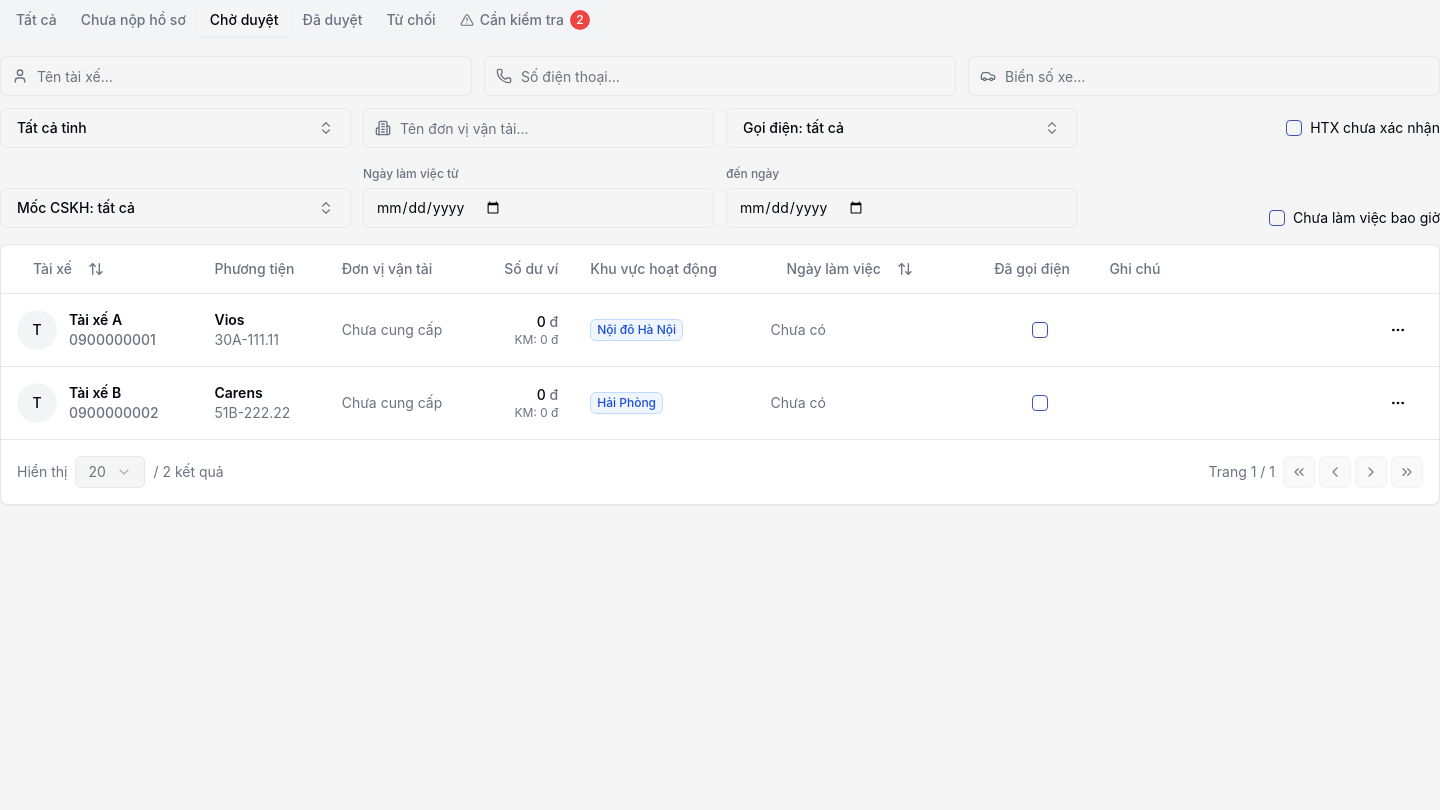
it: DriversTable — sửa tỉnh không rò trạng thái sang tài khác › bấm Sửa (đang nạp) rồi đóng hộp thoại → nạp xong không tự bật chế độ sửa khi mở lại
Click the text "Tài xế A". click: (96, 319)
box: [69,310,122,328]
(page scrolled)
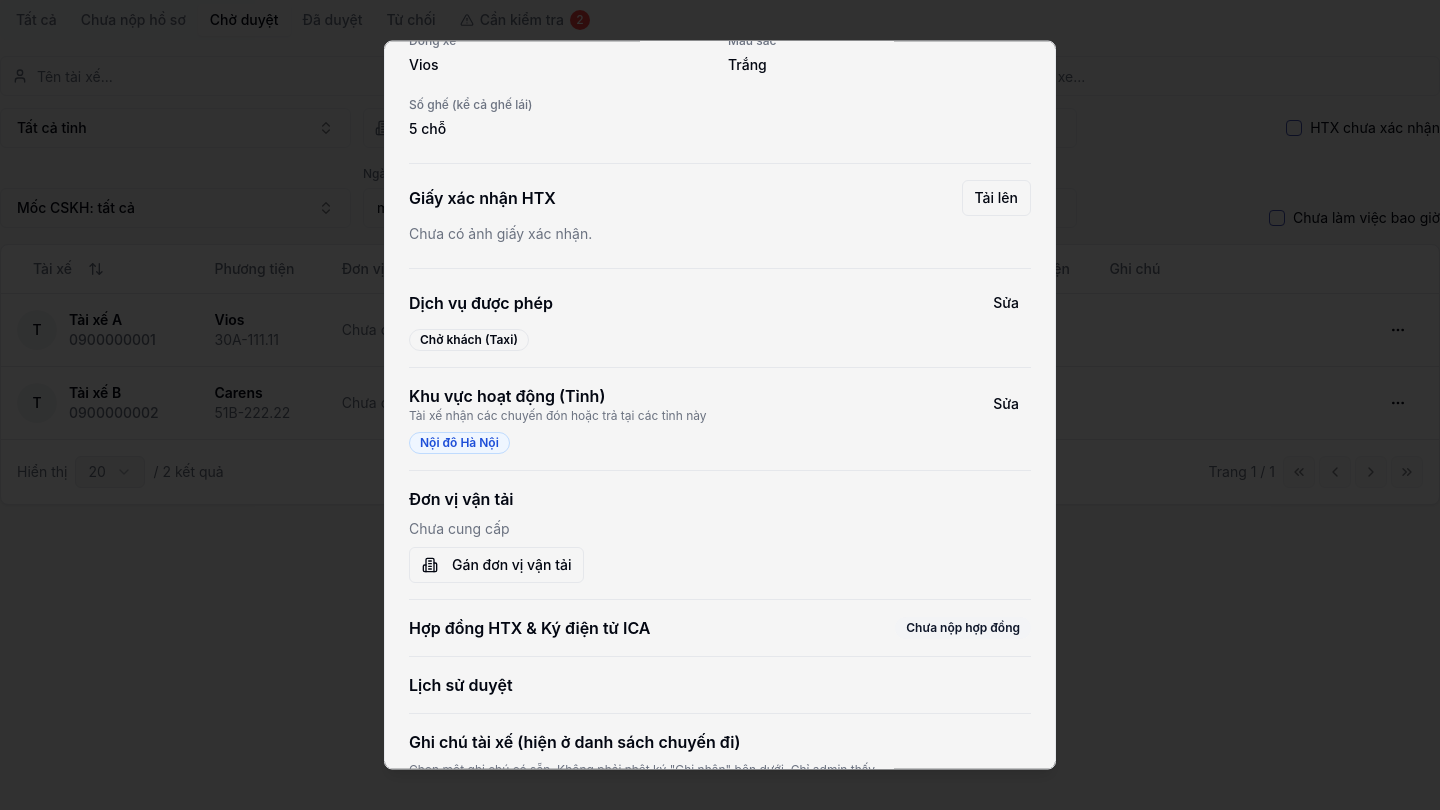
Result: the dialog is shown at [384,40,1056,770]
Click the button "Sửa" in the row of "Khu vực hoạt động (Tỉnh)". click: (1006, 404)
box: [981,386,1031,422]
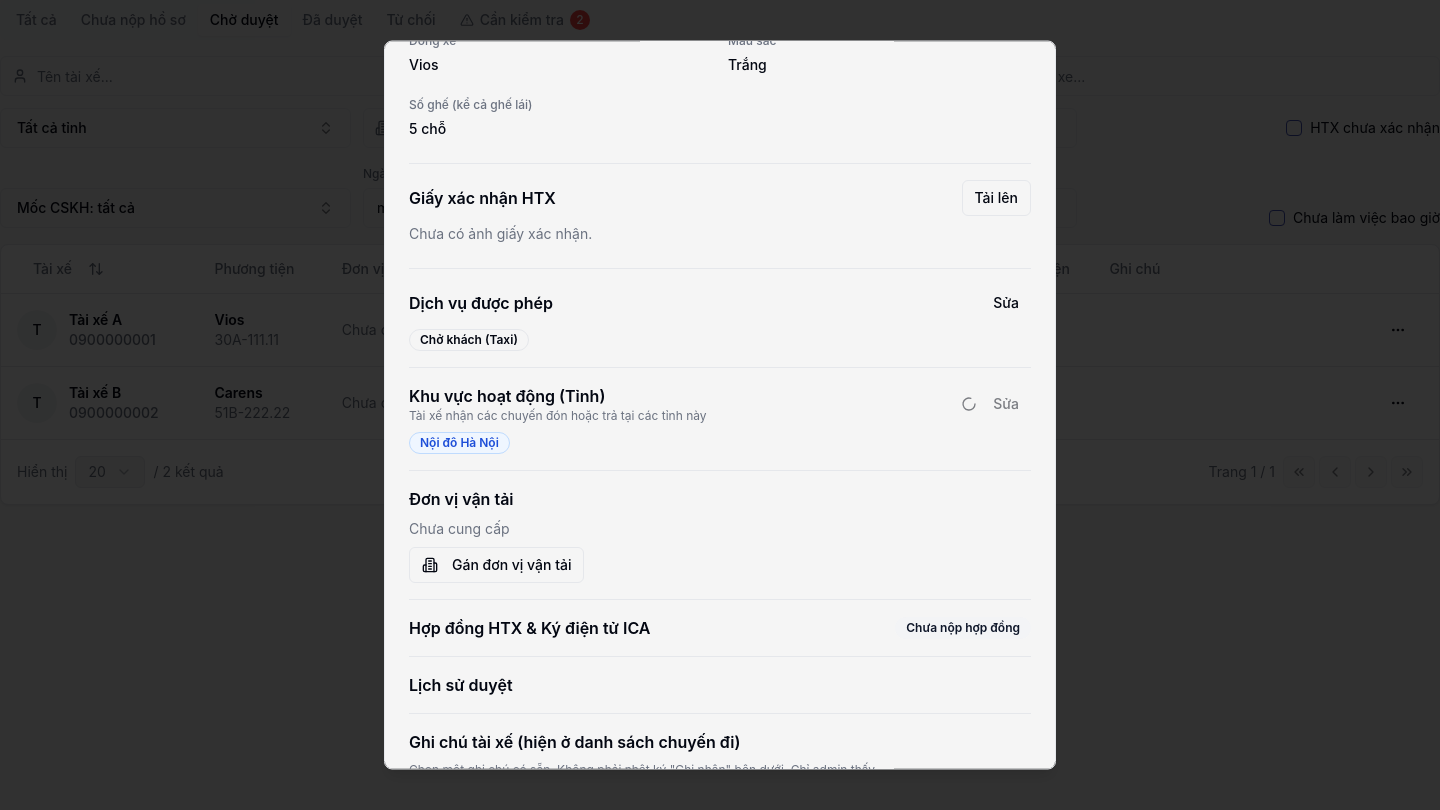
Press Escape
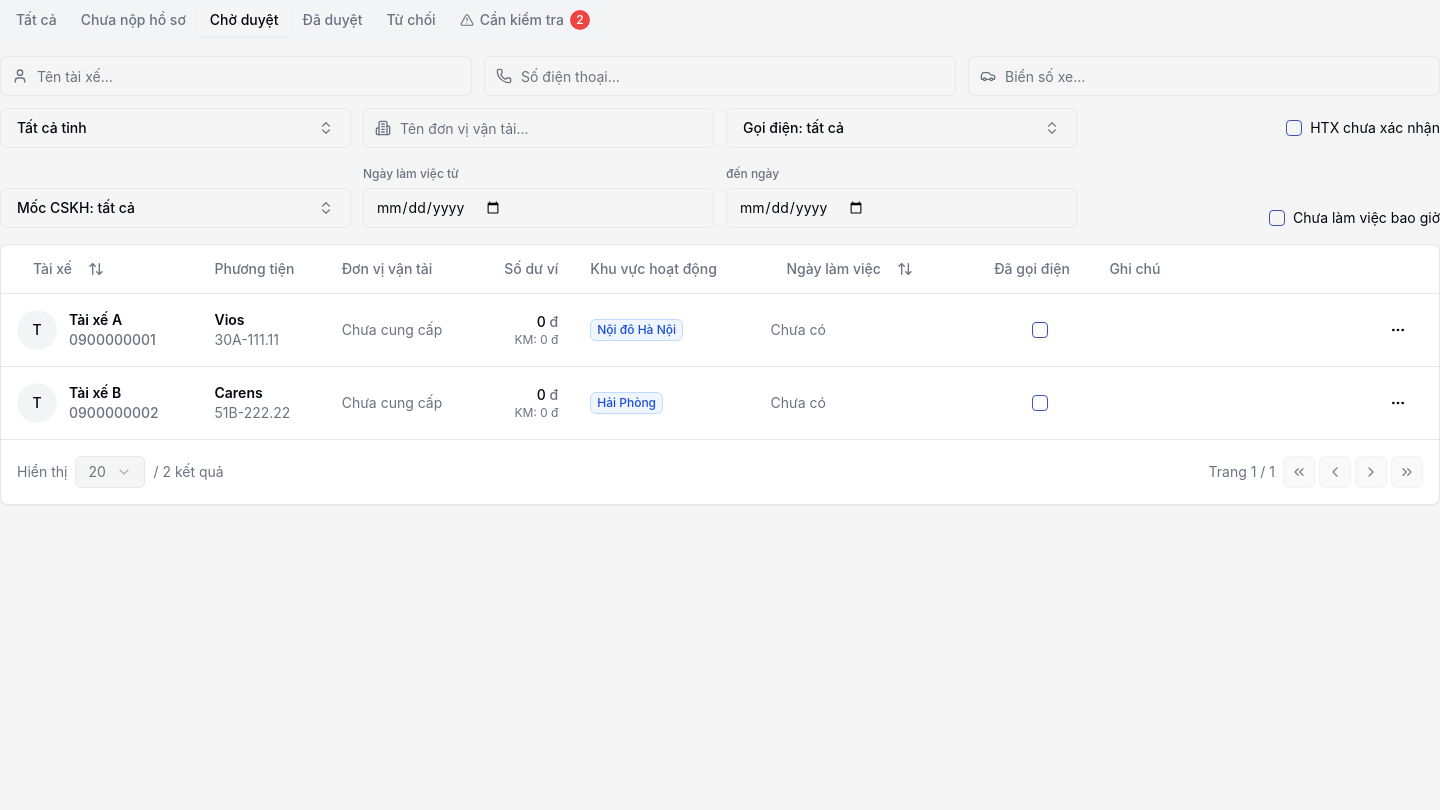
Result: the dialog is gone
Click the text "Tài xế A". click: (96, 319)
box: [69,310,122,328]
(page scrolled)
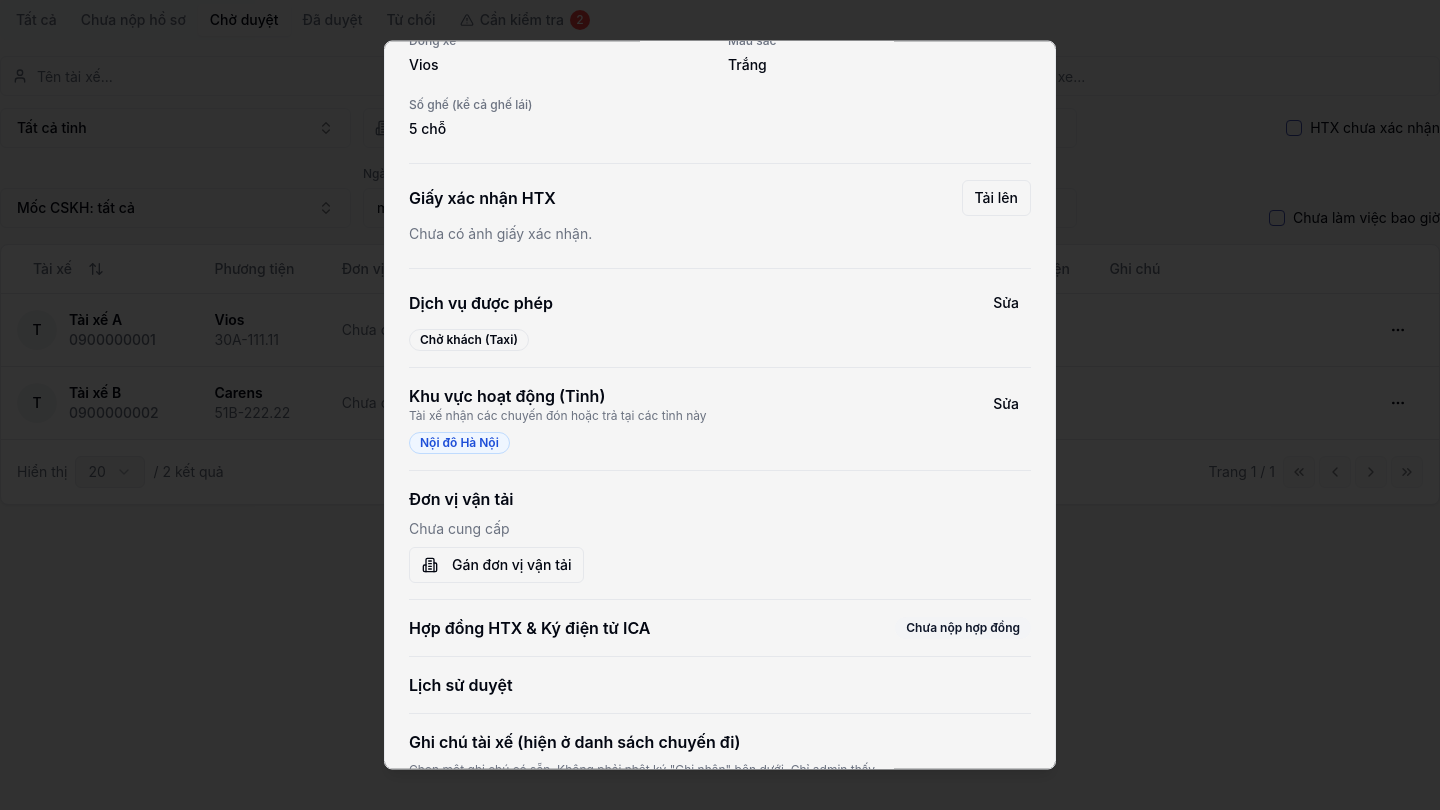
Result: the dialog is shown at [384,40,1056,770]
Result: the button "Sửa" in the row of "Khu vực hoạt động (Tỉnh)" is enabled at [981,386,1031,422]
